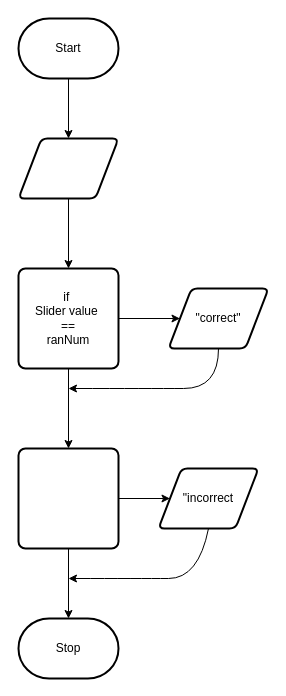
Some shapes in this 286 by 696 pixel diagram are drawn without their labels. Here are the shapes that lost their labels. From the top down, the centre of each, then its label:
At [68,168]: "Slider value ranNum".
At [68,498]: "if Slider value != ranNum".
